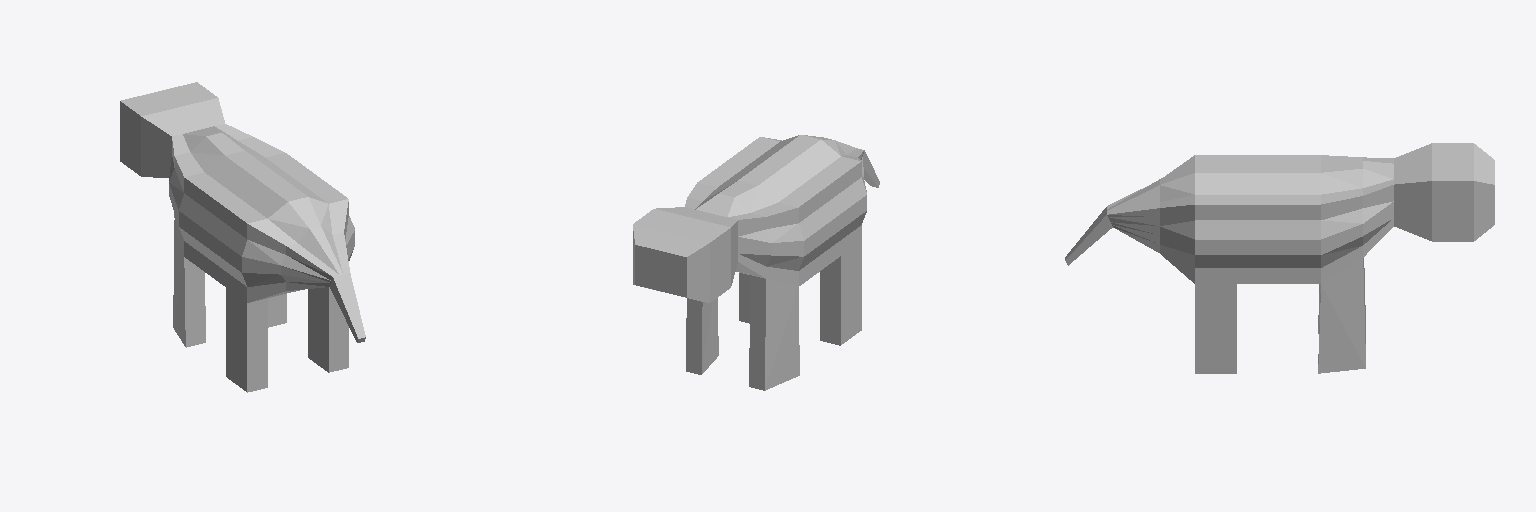
File: WolfMale.obj
The picture shows the model from 3 angles: view 1: azimuth 30°, elevation 25°; view 2: azimuth 150°, elevation 25°; view 3: azimuth 270°, elevation 25°; orthographic projection.
Parts seen in each view (by area): view 1: pCube1; view 2: pCube1; view 3: pCube1.
Boxes of the visible parts, <box> form: pCube1: <box>120,82,365,392</box>; pCube1: <box>633,135,879,390</box>; pCube1: <box>1065,143,1494,373</box>.
Bounding box in the file's own units: 1.38 × 2.18 × 4.53.